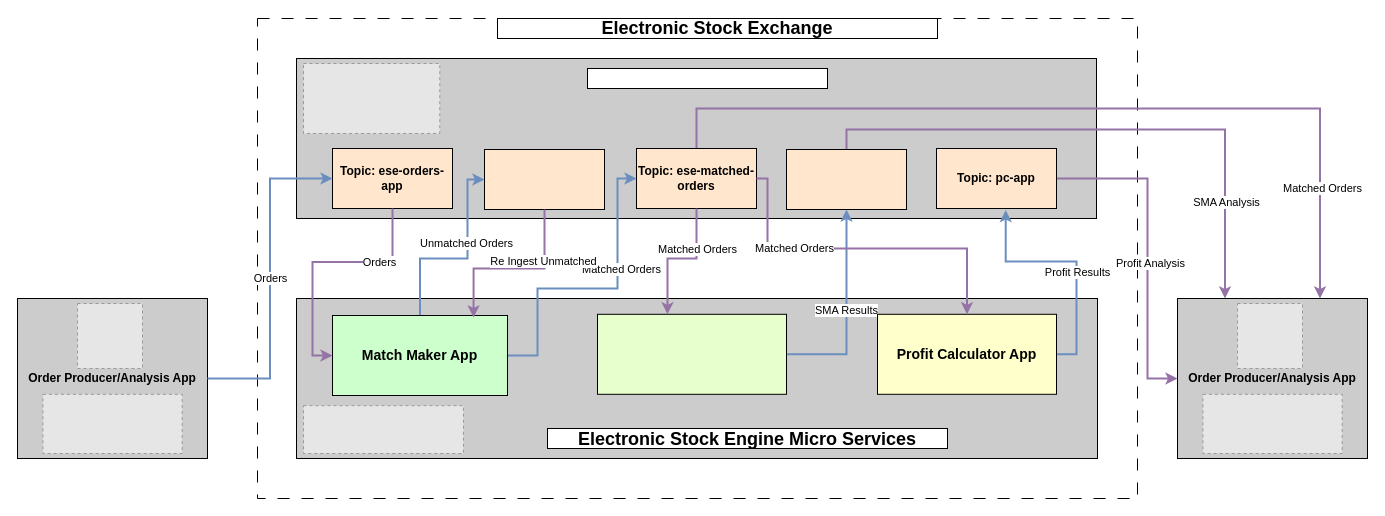
This 1385x516 diagram has some shape labels left out. Grey dashed boxes stand in for pictures. The centre of each missing label's shape, as x and y in pixels:
"Enterprise Kafka Bus" goes at [707,78].
"SMA Calculator App" goes at [691,353].
"Topic: ese-re-orders" goes at [544,179].
"Topic: sma-app" goes at [846,179].
